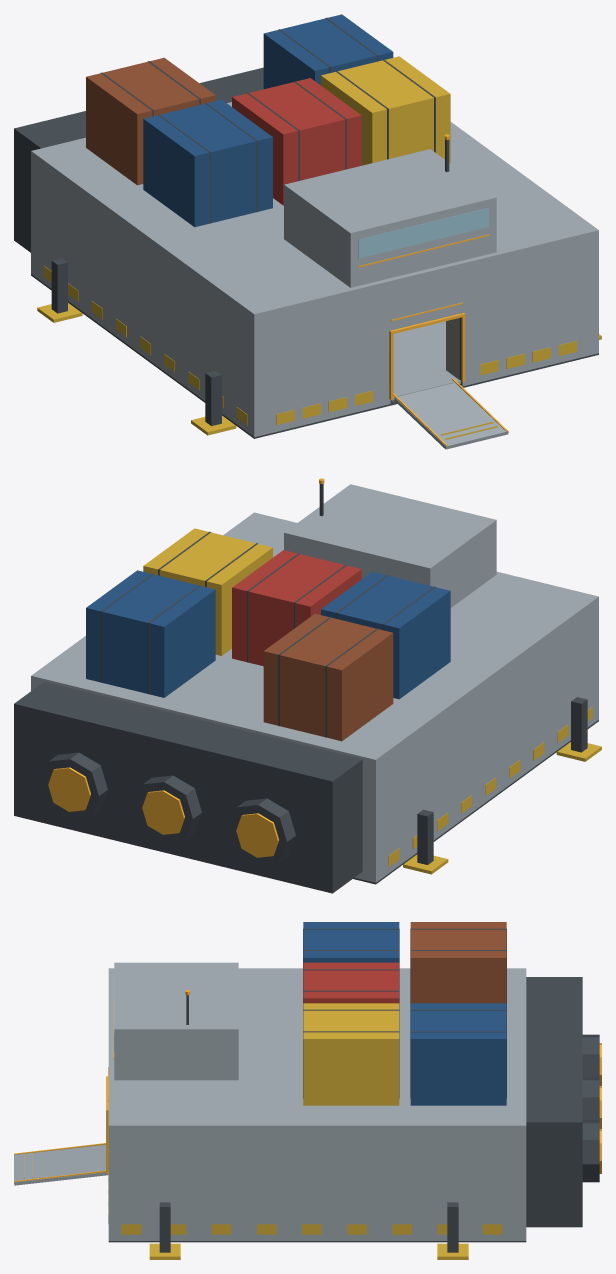
File: GV_ShipFreighter_01.glb
3 renders of one model, top to bottom at view 1: azimuth 30°, elevation 25°; view 2: azimuth 150°, elevation 25°; view 3: azimuth 270°, elevation 25°, orthographic. The views are drawn at different scales.
Parts seen in each view (by area): view 1: GV_ShipFreighter_01, ShipRamp, ShipLeg_2, ShipLeg_4; view 2: GV_ShipFreighter_01, ShipLeg_2, ShipLeg_4; view 3: GV_ShipFreighter_01, ShipRamp, ShipLeg_3, ShipLeg_1.
Part boxes in pixels (left/top/right/bottom): GV_ShipFreighter_01: left=14, top=14, right=598, bottom=438; ShipRamp: left=393, top=378, right=508, bottom=449; ShipLeg_2: left=191, top=370, right=236, bottom=435; ShipLeg_4: left=37, top=258, right=82, bottom=322; GV_ShipFreighter_01: left=14, top=478, right=598, bottom=893; ShipLeg_2: left=556, top=697, right=601, bottom=761; ShipLeg_4: left=403, top=809, right=448, bottom=874; GV_ShipFreighter_01: left=106, top=922, right=601, bottom=1242; ShipRamp: left=14, top=1143, right=108, bottom=1185; ShipLeg_3: left=437, top=1202, right=468, bottom=1259; ShipLeg_1: left=149, top=1202, right=180, bottom=1259.
Bounding box in the file's own units: 15.1 × 8.17 × 20.84.
Materials: 1 (1 with a texture image).
